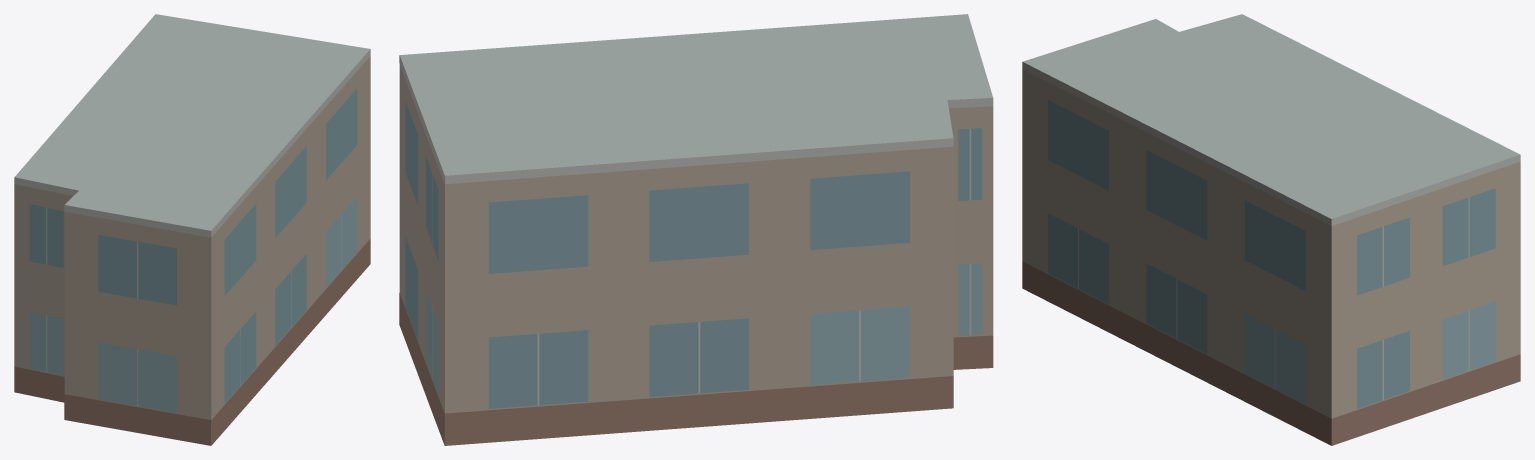
File: survey-upis-32502890.glb
The picture shows the model from 3 angles, left to right: view 1: azimuth 30°, elevation 25°; view 2: azimuth 150°, elevation 25°; view 3: azimuth 270°, elevation 25°; orthographic projection. The views are drawn at different scales.
Visible parts, largest first — view 1: survey-upis-32502890.tmp; view 2: survey-upis-32502890.tmp; view 3: survey-upis-32502890.tmp.
Part boxes in pixels (<box>): survey-upis-32502890.tmp: <box>14,14,370,445</box>; survey-upis-32502890.tmp: <box>399,14,993,445</box>; survey-upis-32502890.tmp: <box>1022,14,1520,445</box>.
Size of the model in its own units: 15.14 by 7.8 by 15.54.
